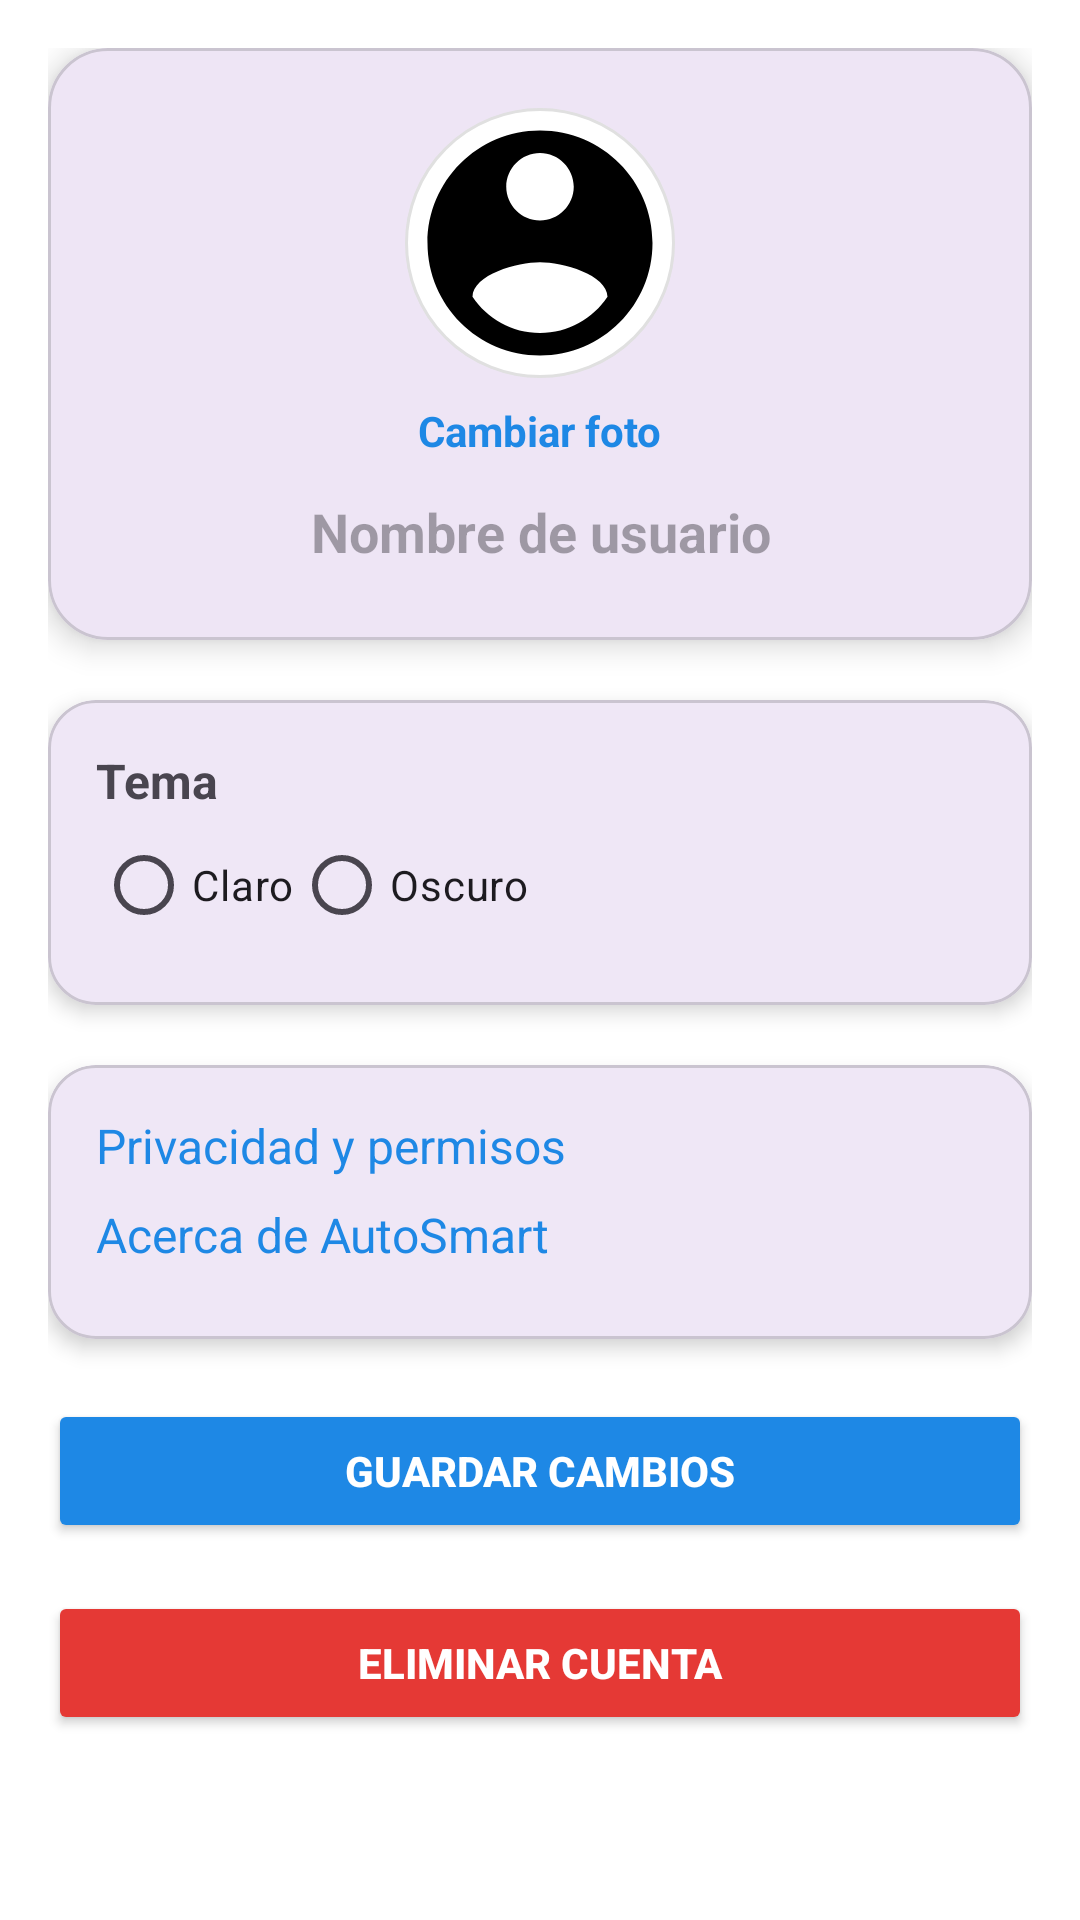

Icon click points for this 1080×1920 phone screenshot, format (x,y):
Foto de perfil: (540,243)
